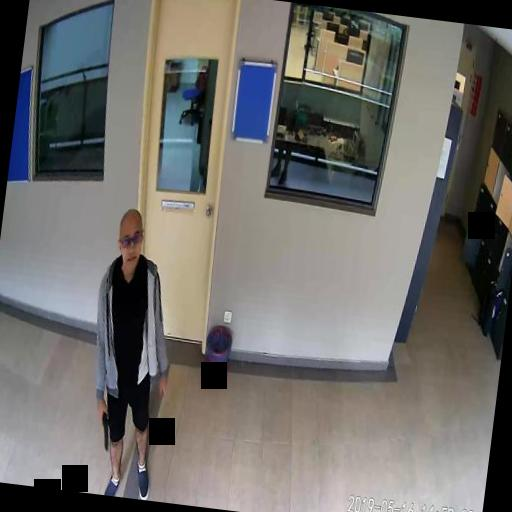Handgun: (94, 404, 110, 448)
